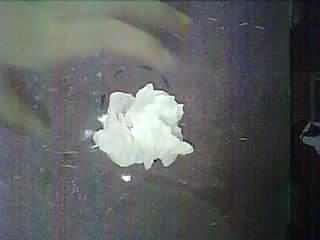paper: (93, 83, 193, 167)
